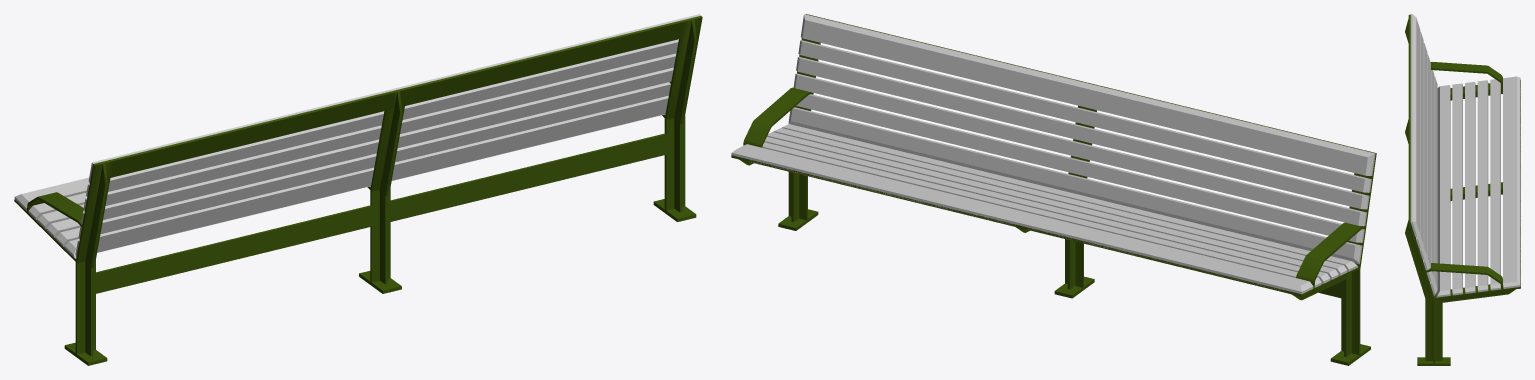
3 renders of one model, left to right at view 1: azimuth 30°, elevation 25°; view 2: azimuth 150°, elevation 25°; view 3: azimuth 270°, elevation 25°, orthographic. The views are drawn at different scales.
Visible parts, largest first — view 1: mesh5_mesh5-geometry, mesh13_mesh13-geometry, mesh17_mesh17-geometry, mesh11_mesh11-geometry, mesh34_mesh34-geometry, mesh19_mesh19-geometry, mesh58_mesh58-geometry, mesh72_mesh72-geometry, mesh7_mesh7-geometry, mesh1_mesh1-geometry, mesh3_mesh3-geometry, mesh80_mesh80-geometry (+1 smaller); view 2: mesh5_mesh5-geometry, mesh7_mesh7-geometry, mesh11_mesh11-geometry, mesh3_mesh3-geometry, mesh9_mesh9-geometry, mesh80_mesh80-geometry, mesh19_mesh19-geometry, mesh79_mesh79-geometry, mesh1_mesh1-geometry, mesh72_mesh72-geometry, mesh34_mesh34-geometry, mesh17_mesh17-geometry (+1 smaller); view 3: mesh5_mesh5-geometry, mesh3_mesh3-geometry, mesh9_mesh9-geometry, mesh7_mesh7-geometry, mesh80_mesh80-geometry, mesh72_mesh72-geometry, mesh11_mesh11-geometry, mesh58_mesh58-geometry, mesh48_mesh48-geometry, mesh17_mesh17-geometry, mesh24_mesh24-geometry, mesh1_mesh1-geometry (+2 smaller).
Part boxes in pixels (x1,y1,x2,y2): mesh5_mesh5-geometry: (28, 39, 678, 246); mesh13_mesh13-geometry: (93, 132, 673, 294); mesh17_mesh17-geometry: (110, 20, 683, 177); mesh11_mesh11-geometry: (75, 95, 668, 257); mesh34_mesh34-geometry: (75, 87, 407, 268); mesh19_mesh19-geometry: (75, 187, 390, 356); mesh58_mesh58-geometry: (665, 16, 702, 124); mesh72_mesh72-geometry: (664, 115, 685, 212); mesh7_mesh7-geometry: (88, 14, 700, 182); mesh1_mesh1-geometry: (64, 199, 696, 365); mesh3_mesh3-geometry: (14, 177, 88, 210); mesh80_mesh80-geometry: (27, 81, 671, 227); mesh5_mesh5-geometry: (762, 40, 1371, 287); mesh7_mesh7-geometry: (800, 14, 1375, 175); mesh11_mesh11-geometry: (788, 107, 1362, 264); mesh3_mesh3-geometry: (731, 144, 1313, 294); mesh9_mesh9-geometry: (782, 124, 1357, 271); mesh80_mesh80-geometry: (743, 87, 1364, 288); mesh19_mesh19-geometry: (1065, 239, 1360, 356); mesh79_mesh79-geometry: (749, 159, 1283, 292); mesh1_mesh1-geometry: (778, 209, 1370, 365); mesh72_mesh72-geometry: (788, 172, 807, 221); mesh34_mesh34-geometry: (1068, 83, 1376, 269); mesh17_mesh17-geometry: (824, 18, 1358, 148); mesh5_mesh5-geometry: (1416, 31, 1500, 295); mesh3_mesh3-geometry: (1503, 76, 1520, 288); mesh9_mesh9-geometry: (1436, 85, 1450, 297); mesh7_mesh7-geometry: (1410, 14, 1420, 236); mesh80_mesh80-geometry: (1426, 62, 1503, 289); mesh72_mesh72-geometry: (1425, 297, 1442, 363); mesh11_mesh11-geometry: (1430, 76, 1437, 295); mesh58_mesh58-geometry: (1405, 215, 1434, 299); mesh48_mesh48-geometry: (1434, 281, 1520, 302); mesh17_mesh17-geometry: (1408, 21, 1410, 215); mesh24_mesh24-geometry: (1450, 80, 1520, 200); mesh1_mesh1-geometry: (1417, 357, 1450, 365).
Size of the model in its own units: 0.9282 by 0.3009 by 0.2191.
